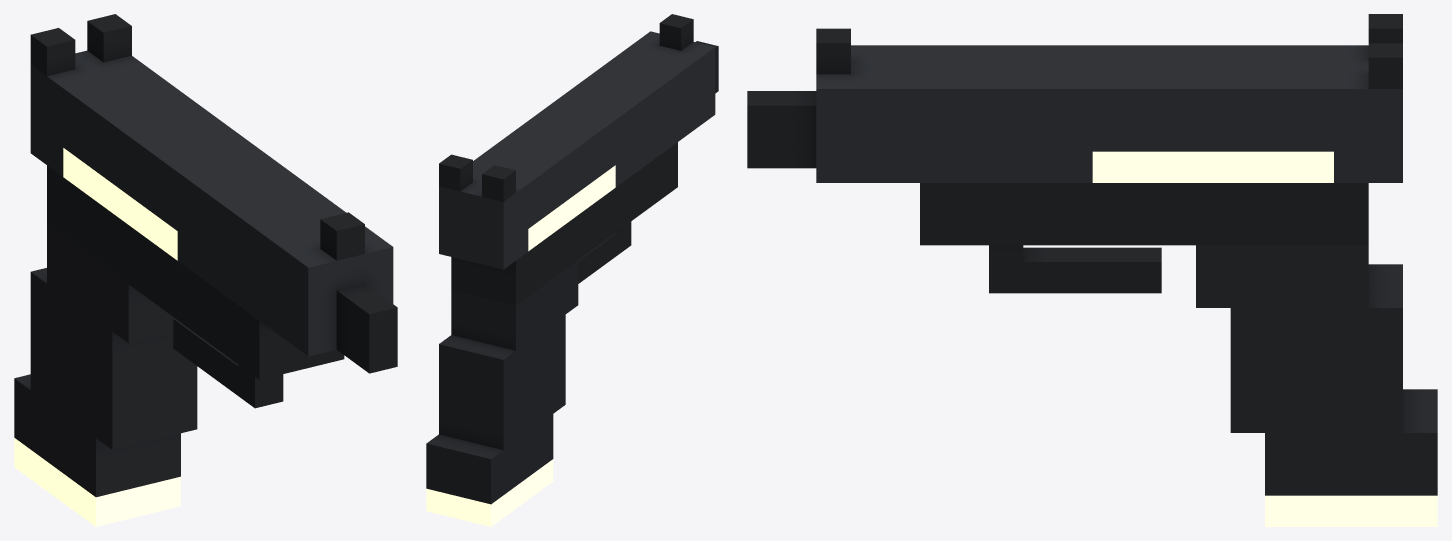
Rendered from plinker_legendary.glb.
3 views of the same model, side by side, from view 1: azimuth 30°, elevation 25°; view 2: azimuth 150°, elevation 25°; view 3: azimuth 270°, elevation 25° (orthographic). The views are drawn at different scales.
Parts seen in each view (by area): view 1: plinker_legendary_body; view 2: plinker_legendary_body; view 3: plinker_legendary_body.
Part boxes in pixels (x1=…): plinker_legendary_body: x1=14, y1=14, x2=397, y2=526; plinker_legendary_body: x1=426, y1=14, x2=718, y2=526; plinker_legendary_body: x1=747, y1=14, x2=1437, y2=526.
Bounding box in the file's own units: 0.1172 × 0.5859 × 0.7812.
Materials: 1 (1 with a texture image).
